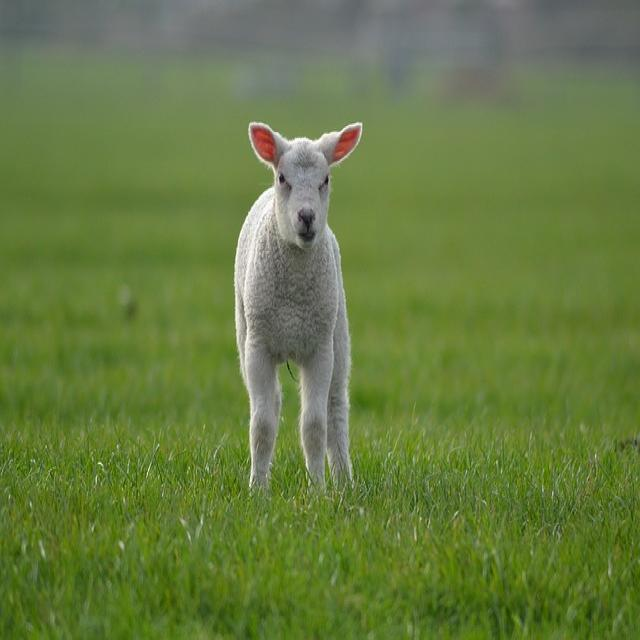goat: (235, 122, 362, 485)
